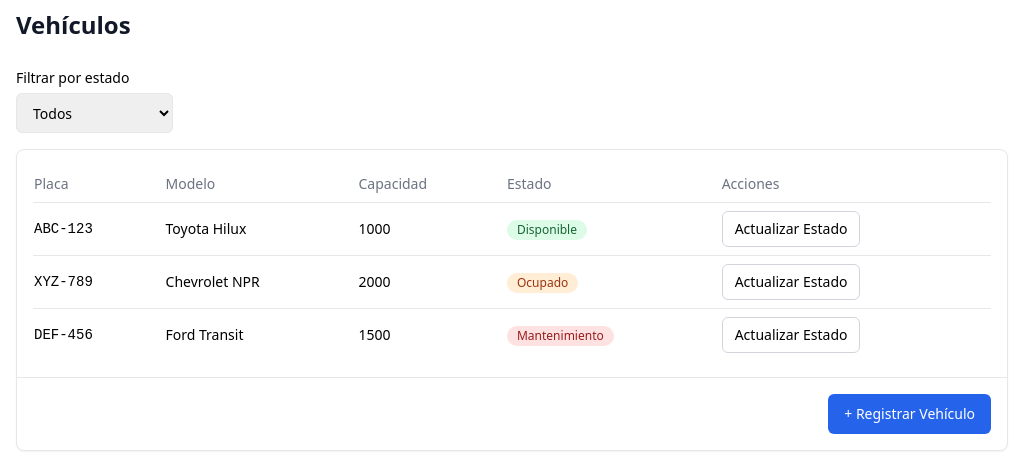
Test: R19 — GestionVehiculos: debe mostrar solo los vehículos cuyo estado coincide con el filtro › filtra la tabla al seleccionar un estado en el control de filtro
Expected: the text "ABC-123" is shown, [33,202,164,256]
Expected: the text "XYZ-789" is shown, [33,256,164,308]
Select "Mantenimiento" in the dropdown labelled "Filtrar por estado" at (94, 113), box [16,93,173,133]
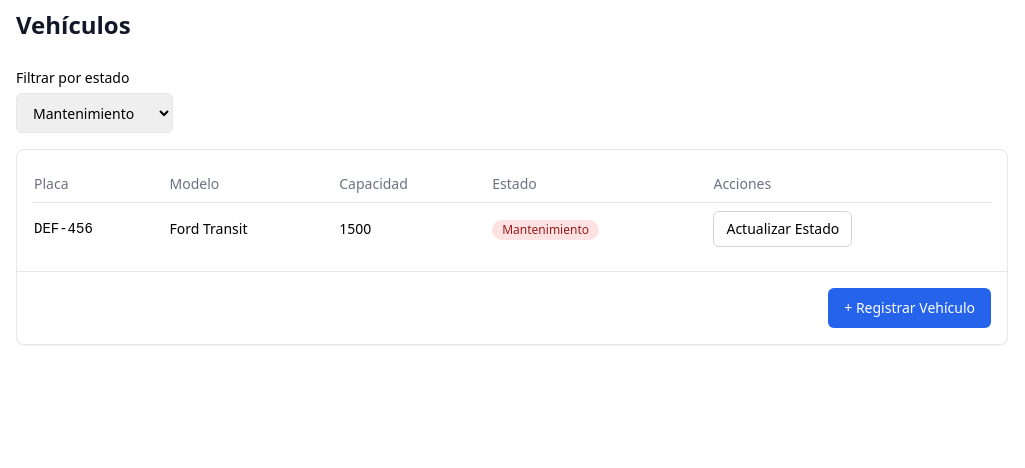
Expected: the text "DEF-456" is shown, [33,202,168,255]
Now the text "ABC-123" is gone
Now the text "XYZ-789" is gone
